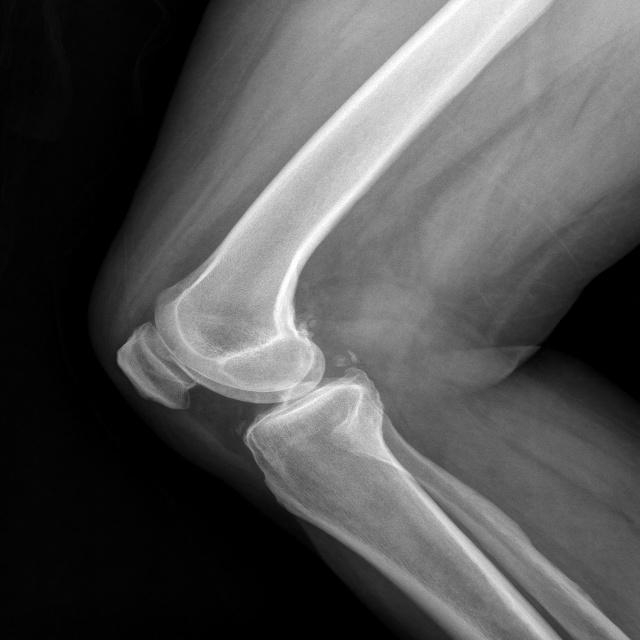Knee: (114, 274, 385, 445)
